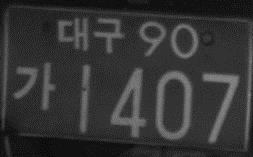0: (153, 68, 193, 141), (170, 22, 198, 60)
1: (77, 62, 94, 135)
4: (108, 65, 148, 139)
7: (199, 71, 240, 144)
9: (138, 20, 166, 58)
가: (11, 61, 56, 111)
대구_O: (56, 15, 125, 54)
